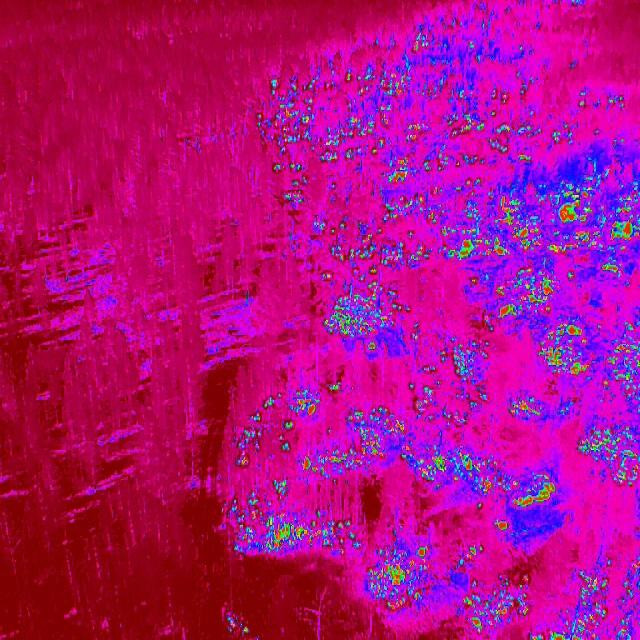fire: (250, 0, 557, 214), (445, 150, 640, 418), (294, 216, 446, 362), (366, 540, 547, 640), (228, 378, 412, 476), (416, 446, 582, 542), (210, 476, 370, 570), (530, 558, 640, 640), (570, 418, 640, 498), (222, 606, 266, 640)
